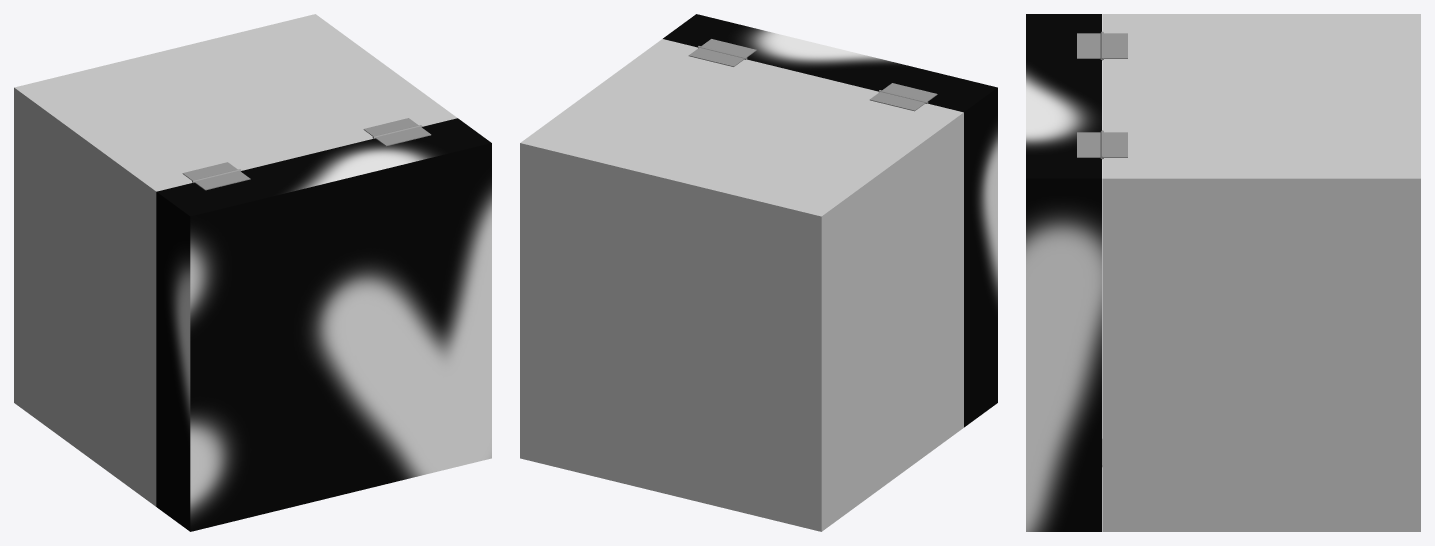
The model's file is chest.glb.
The picture shows the model from 3 angles, left to right: view 1: azimuth 30°, elevation 25°; view 2: azimuth 150°, elevation 25°; view 3: azimuth 270°, elevation 25°; orthographic projection. The views are drawn at different scales.
Parts seen in each view (by area): view 1: top, bottom; view 2: bottom, top; view 3: bottom, top, hinge_topLeft, hinge_topRight, hinge_bottomLeft, hinge_bottomRight.
Part boxes in pixels (box(x1,y1,x2,y2)): top: box(156, 118, 491, 531); bottom: box(14, 14, 457, 506); bottom: box(520, 39, 963, 531); top: box(663, 14, 997, 427); bottom: box(1102, 14, 1420, 531); top: box(1026, 14, 1101, 531); hinge_topLeft: box(1077, 132, 1100, 157); hinge_topRight: box(1077, 33, 1100, 58); hinge_bottomLeft: box(1104, 132, 1127, 157); hinge_bottomRight: box(1104, 33, 1127, 58).
Size of the model in its own units: 2 by 2.05 by 2.03.
Materials: 3 (1 with a texture image).
